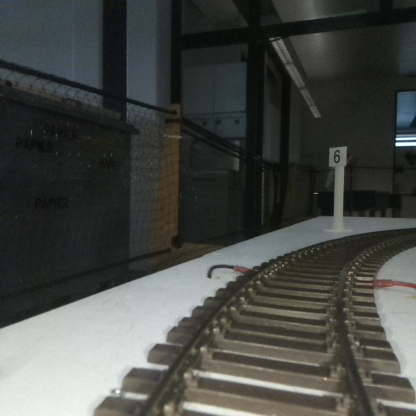white-info-6: (329, 146, 346, 228)
